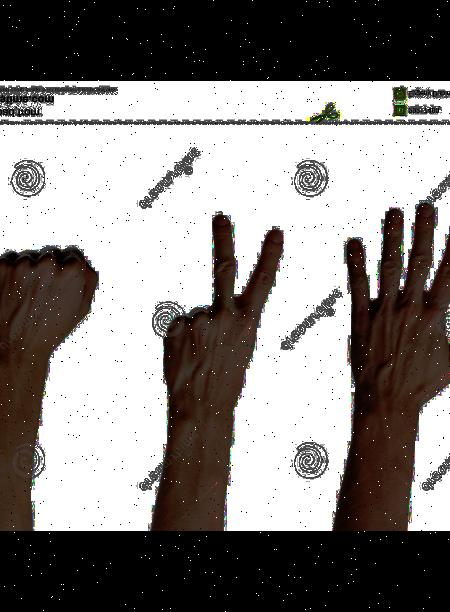Paper: (341, 200, 450, 413)
Rock: (0, 236, 107, 362)
Scissors: (154, 205, 296, 420)
